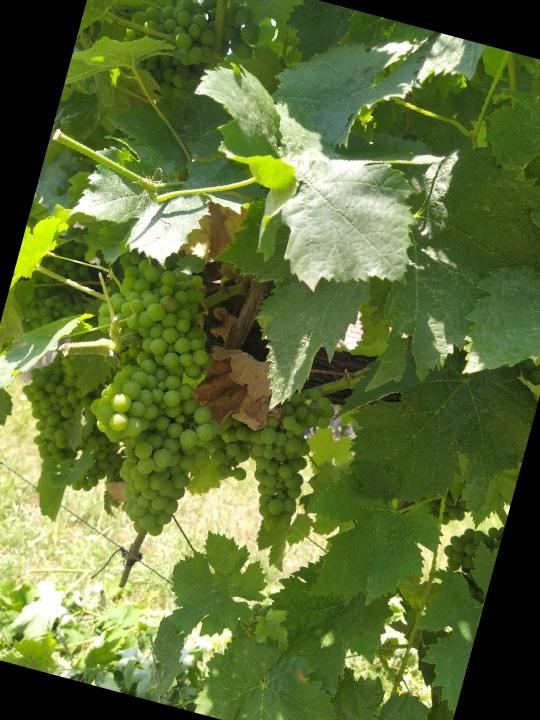grape: (59, 346, 234, 549), (206, 366, 342, 542), (93, 250, 237, 385)
